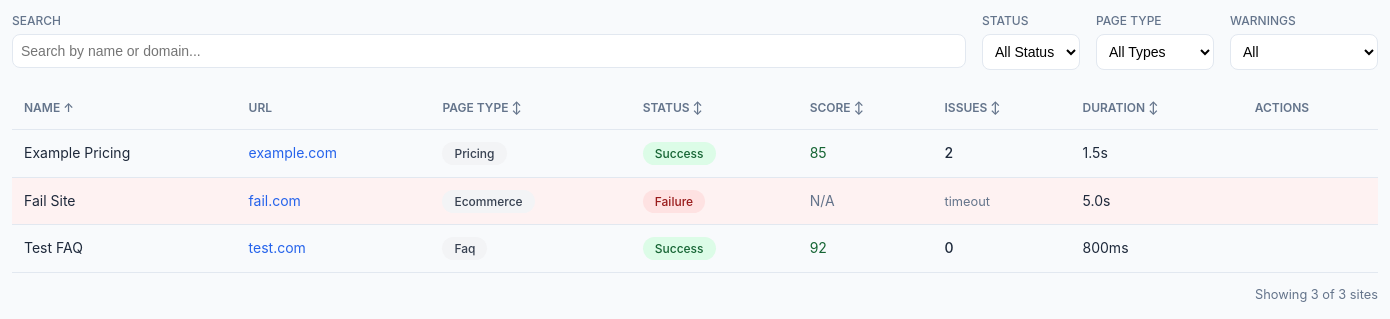
Test: EvaluationSiteTable › searching › filters by domain
In the search field named "Search sites by name or domain": (489, 51) [12, 34, 966, 68], type "test.com"
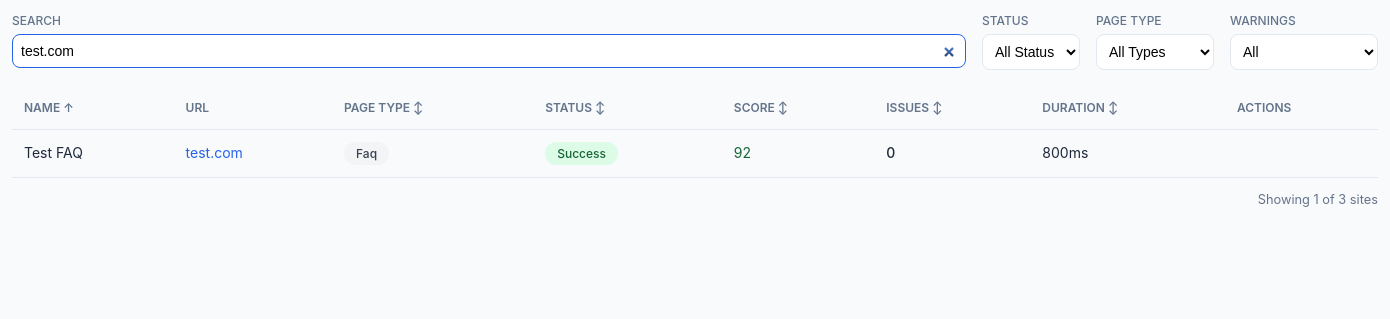
Expected: the text "Test FAQ" is shown, [12, 130, 174, 177]
Now the text "Example Pricing" is gone
